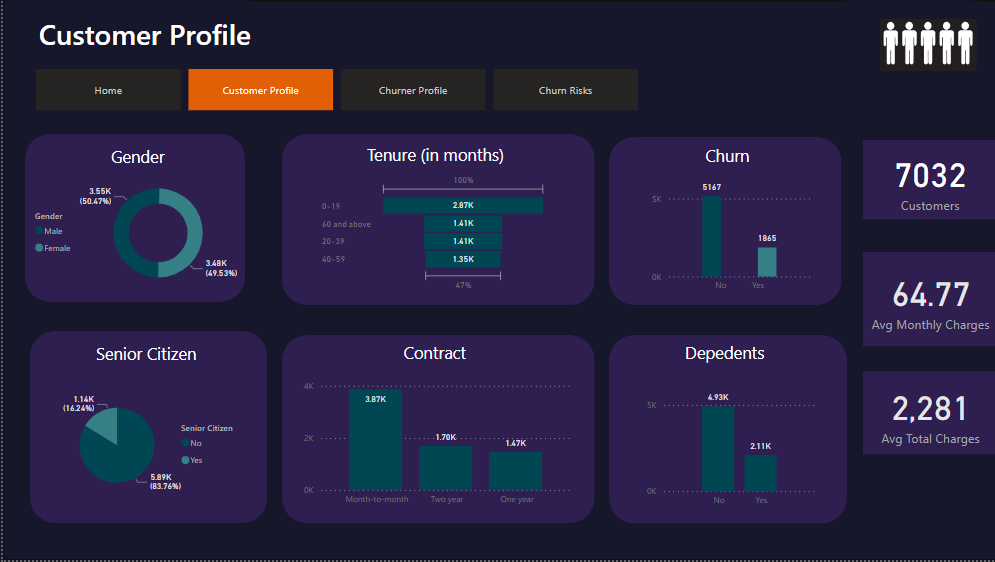

What the dashboard file says about the page in this screenshot:
{"tool":"powerbi","page":{"name":"Customer Profile","canvas":[1280,720],"ordinal":1},"visuals":[{"type":"shape","box":[778.7,175.8,299.4,215.6],"z":0},{"type":"textbox","title":"Customer Profile","box":[26.1,19.2,313.1,57.7],"z":1000},{"type":"shape","box":[28.8,171.7,282.9,215.6],"z":2000},{"type":"shape","box":[358.5,431.2,402.4,241.7],"z":3000},{"type":"shape","box":[34.3,425.8,304.9,247.2],"z":4000},{"type":"shape","box":[358.5,171.7,402.4,219.7],"z":5000},{"type":"donutChart","fields":{"Y":["CountNonNull(Telco-Customer-Churn.gender)"],"Category":["Telco-Customer-Churn.gender"]},"box":[35.7,212.9,270.6,171.7],"z":6000},{"type":"pieChart","fields":{"Category":["Telco-Customer-Churn.SeniorCitizen"],"Y":["CountNonNull(Telco-Customer-Churn.SeniorCitizen)"]},"box":[59.1,497.2,256.8,149.7],"z":7000},{"type":"textbox","title":"Gender","box":[133.2,185.8,84.3,31.8],"z":8000},{"type":"textbox","title":"Senior Citizen","box":[114.7,439.6,146.7,25.7],"z":9000},{"type":"funnel","fields":{"Category":["Telco-Customer-Churn.TenureMonths"],"Y":["CountNonNull(Telco-Customer-Churn.TenureMonths)"]},"box":[405.2,219.7,299.4,157.9],"z":10000},{"type":"textbox","title":"Tenure (in months)","box":[462.8,184,193.6,27.5],"z":11000},{"type":"columnChart","fields":{"Category":["Telco-Customer-Churn.Contract"],"Y":["CountNonNull(Telco-Customer-Churn.Contract)"]},"box":[381.8,482.1,355.7,177.2],"z":12000},{"type":"clusteredColumnChart","fields":{"Category":["Telco-Customer-Churn.Churn"],"Y":["CountNonNull(Telco-Customer-Churn.Churn)"],"Series":["Telco-Customer-Churn.Churn"]},"box":[829.5,218.4,212.9,166.2],"z":13000},{"type":"textbox","title":"Churn","box":[873.5,185.4,116.7,37.1],"z":14000},{"type":"shape","box":[778.7,431.2,306.3,241.7],"z":15000},{"type":"columnChart","fields":{"Category":["Telco-Customer-Churn.Dependents"],"Y":["CountNonNull(Telco-Customer-Churn.Dependents)"]},"box":[822.7,484.8,228,175.8],"z":16000},{"type":"textbox","title":"Depedents","box":[869.1,438.8,117.4,36.7],"z":17000},{"type":"textbox","title":"Contract","box":[496.3,438.8,117.4,36.7],"z":18000},{"type":"card","fields":{"Values":["CountNonNull(Telco-Customer-Churn.Churn)"]},"box":[1105.6,179.9,173,101.6],"z":19000},{"type":"card","fields":{"Values":["Avg(Telco-Customer-Churn.MonthlyCharges)"]},"box":[1105.6,324.1,174.4,120.9],"z":20000},{"type":"card","fields":{"Values":["Avg(Telco-Customer-Churn.TotalCharges)"]},"box":[1105.6,476.6,174.4,107.1],"z":21000},{"type":"pageNavigator","box":[42.6,89.3,774.6,53.6],"z":22000},{"type":"image","box":[1105.6,19.2,167.6,76.9],"z":23000}]}

Visuals, with their boxes in screenshot pixels (x1, y1, x2, y2), scaled from the page's 1280x720 canvas onto the 995x562 screenshot:
shape: bbox=[605, 137, 838, 306]
"Customer Profile" textbox: bbox=[20, 15, 264, 60]
shape: bbox=[22, 134, 242, 302]
shape: bbox=[279, 337, 591, 525]
shape: bbox=[27, 332, 264, 525]
shape: bbox=[279, 134, 591, 306]
donutChart - CountNonNull(Telco-Customer-Churn.gender) x Telco-Customer-Churn.gender: bbox=[28, 166, 238, 300]
pieChart - Telco-Customer-Churn.SeniorCitizen x CountNonNull(Telco-Customer-Churn.SeniorCitizen): bbox=[46, 388, 246, 505]
"Gender" textbox: bbox=[104, 145, 169, 170]
"Senior Citizen" textbox: bbox=[89, 343, 203, 363]
funnel - Telco-Customer-Churn.TenureMonths x CountNonNull(Telco-Customer-Churn.TenureMonths): bbox=[315, 171, 548, 295]
"Tenure (in months)" textbox: bbox=[360, 144, 510, 165]
columnChart - Telco-Customer-Churn.Contract x CountNonNull(Telco-Customer-Churn.Contract): bbox=[297, 376, 573, 515]
clusteredColumnChart - Telco-Customer-Churn.Churn x CountNonNull(Telco-Customer-Churn.Churn): bbox=[645, 170, 810, 300]
"Churn" textbox: bbox=[679, 145, 770, 174]
shape: bbox=[605, 337, 843, 525]
columnChart - Telco-Customer-Churn.Dependents x CountNonNull(Telco-Customer-Churn.Dependents): bbox=[640, 378, 817, 516]
"Depedents" textbox: bbox=[676, 343, 767, 371]
"Contract" textbox: bbox=[386, 343, 477, 371]
card - CountNonNull(Telco-Customer-Churn.Churn): bbox=[859, 140, 994, 220]
card - Avg(Telco-Customer-Churn.MonthlyCharges): bbox=[859, 253, 994, 347]
card - Avg(Telco-Customer-Churn.TotalCharges): bbox=[859, 372, 994, 456]
pageNavigator: bbox=[33, 70, 635, 112]
image: bbox=[859, 15, 990, 75]
